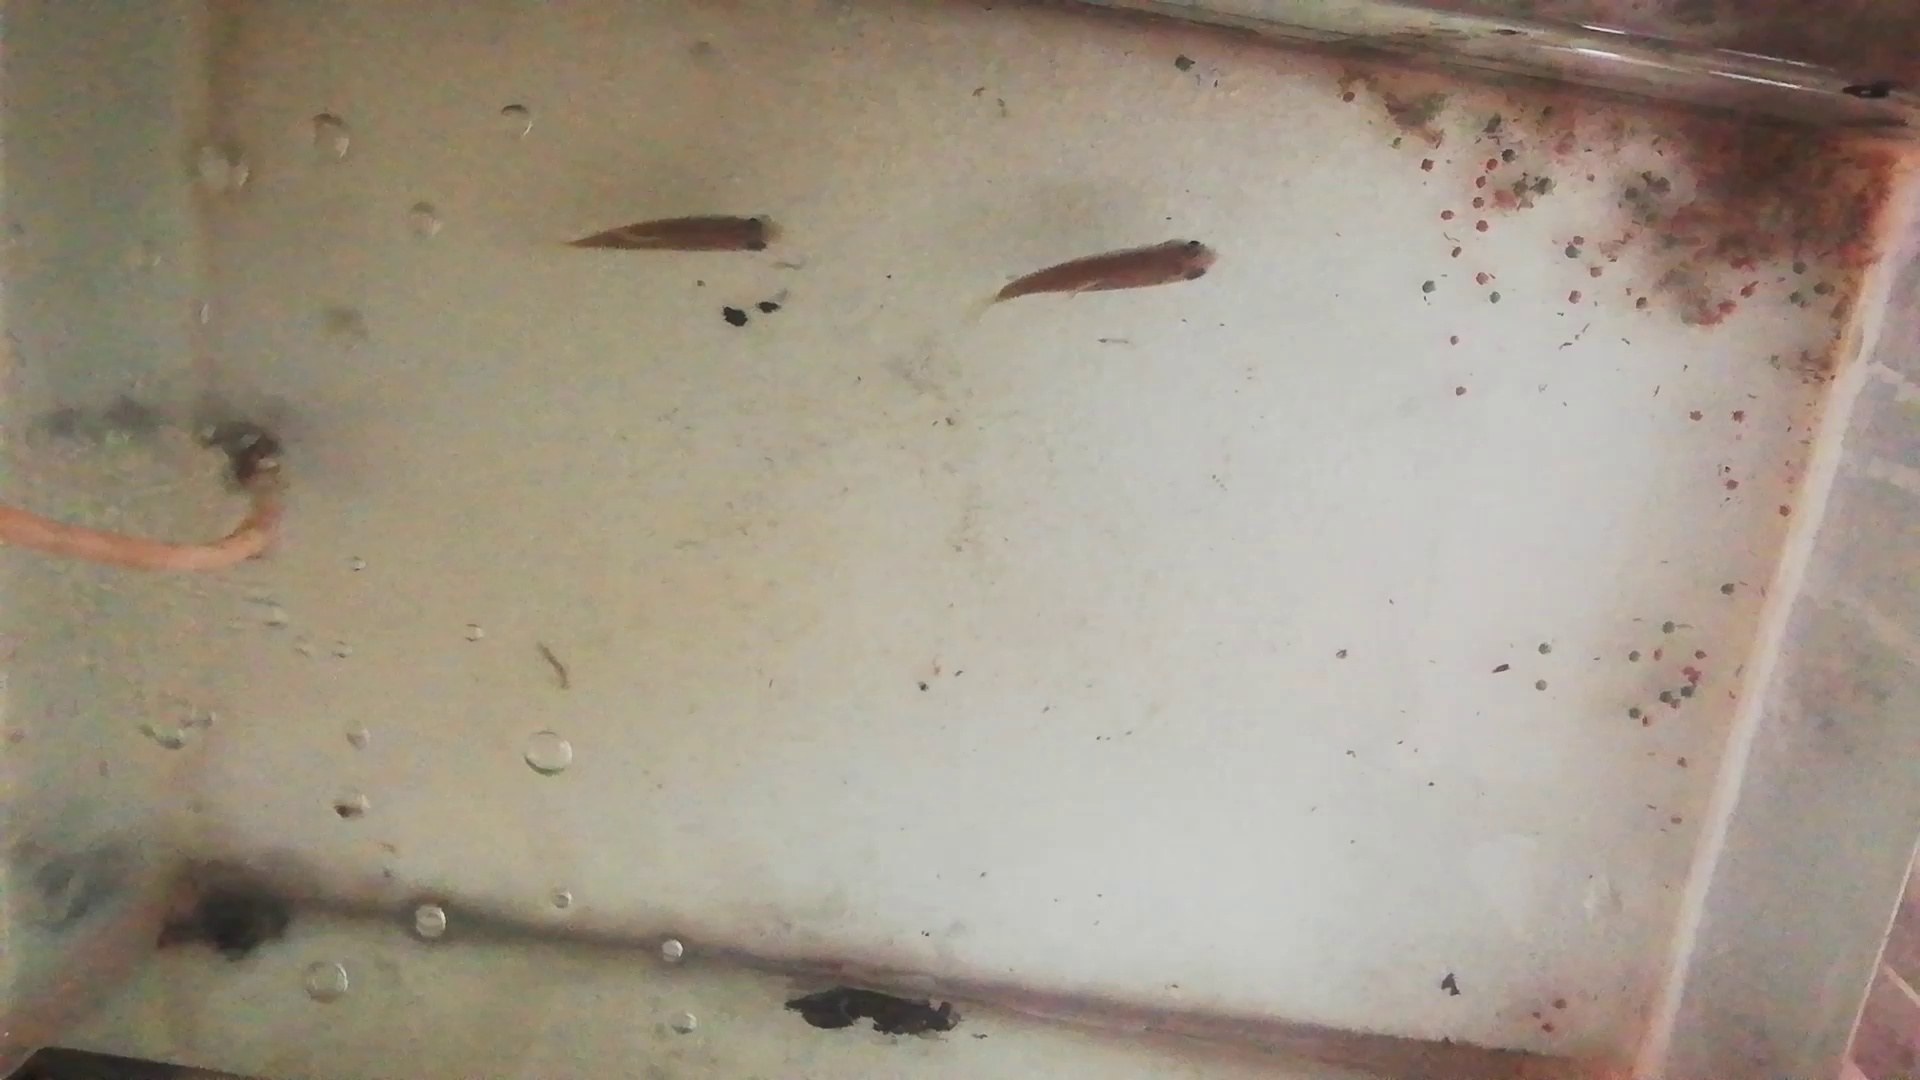fish: (992, 237, 1217, 298), (575, 207, 785, 258)
